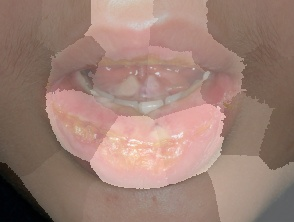SJS-TEN: (39, 57, 244, 207)
